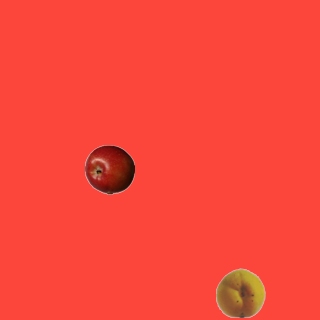Apple Braeburn: (84, 144, 134, 194)
Peach 2: (215, 267, 265, 317)
